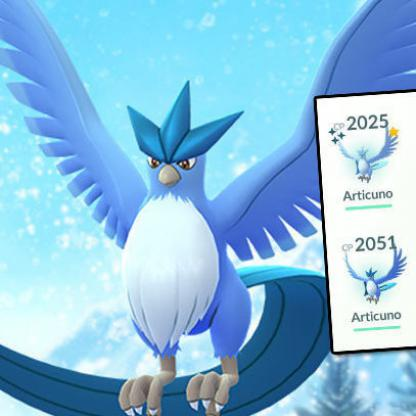Articuno: (1, 1, 313, 416)
